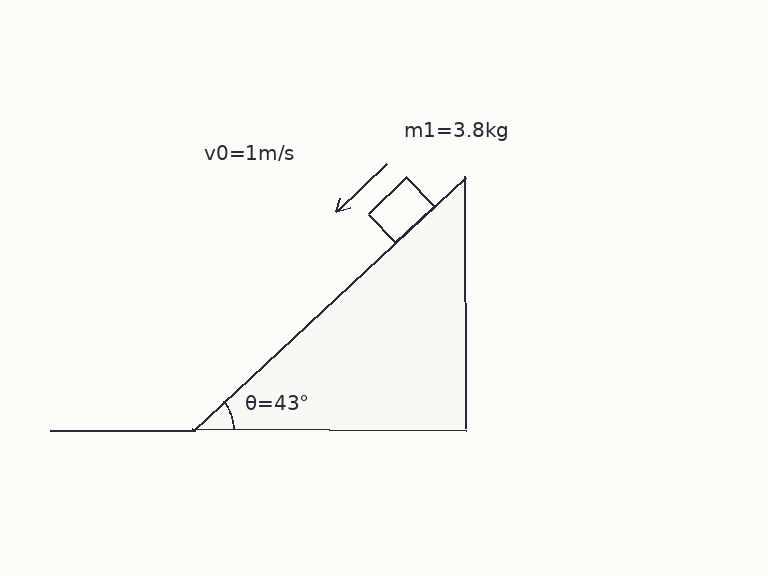block: (366, 175, 436, 244)
ramp: (192, 174, 467, 431)
